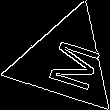M_W: (33, 32, 98, 92)
